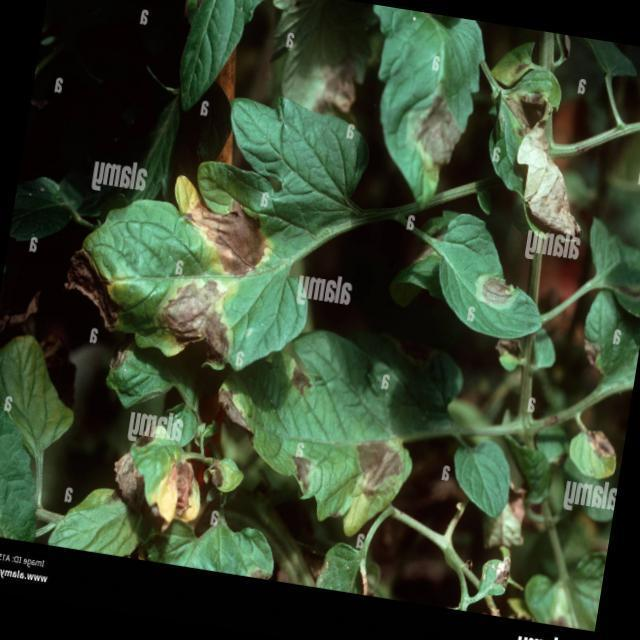Healthy Leaf: (443, 434, 518, 528)
